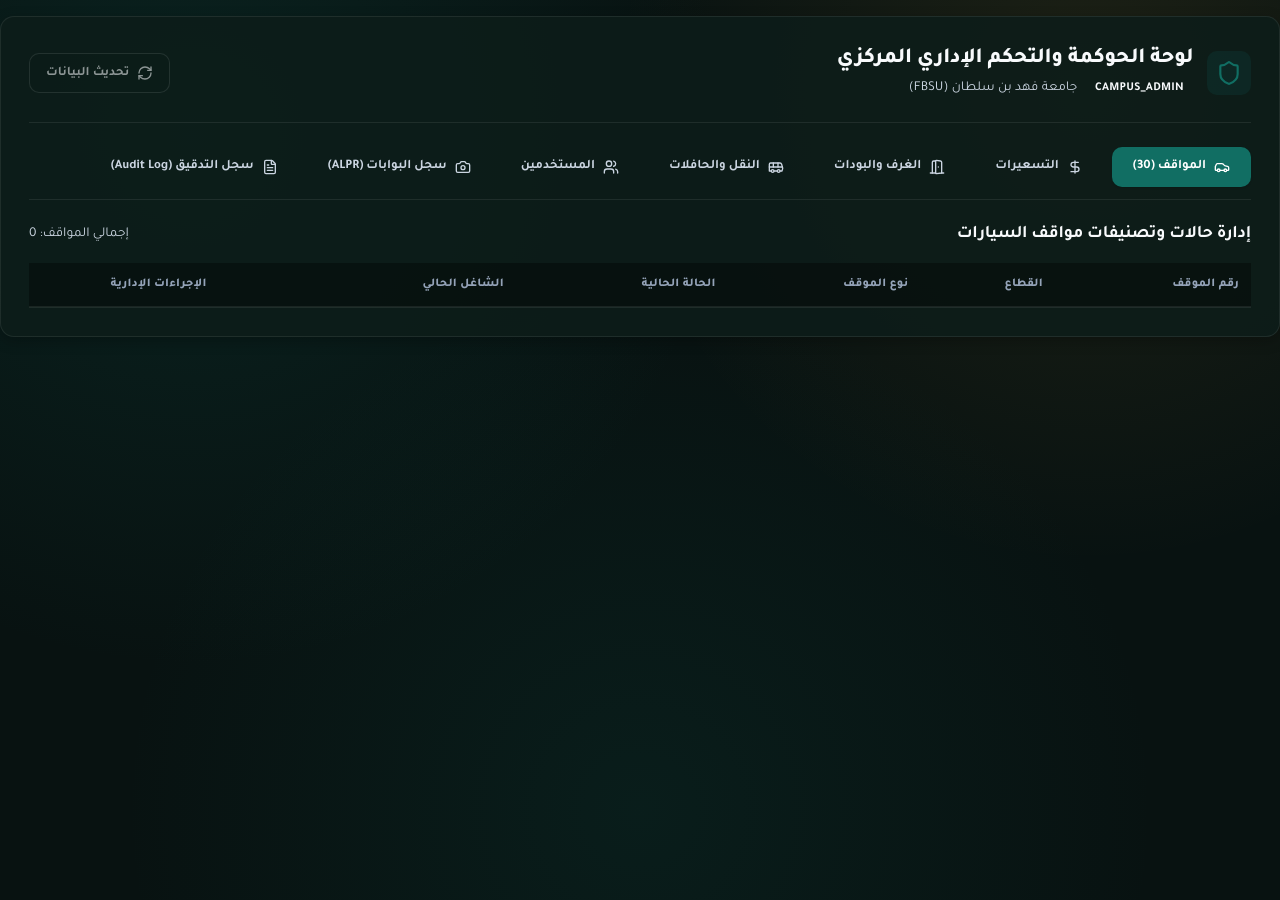
Scenario: AdminDashboard Component Tests › switches to users tab, renders user search, and toggles user suspension
Step 1. Click the button with test id "admin-tab-users" → (570,167), box [500,147,640,187]
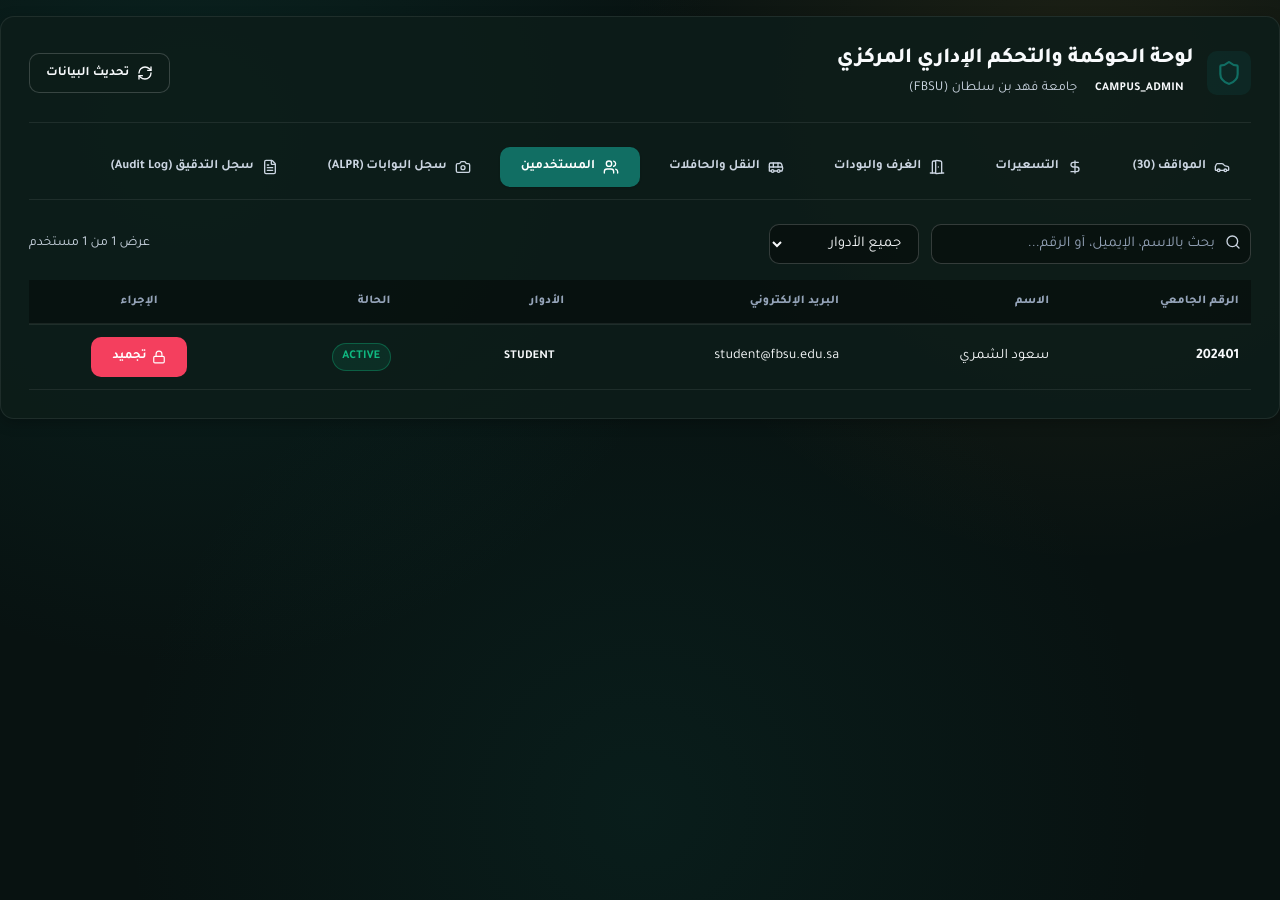
Check: the element with test id "admin-users-panel" is shown, box [29,224,1251,390]
Check: the text "سعود الشمري" is shown, box [851,324,1061,390]
Check: the text "student@fbsu.edu.sa" is shown, box [576,324,851,390]
Step 2. Click the button "تجميد" → (139,357), box [92,337,187,377]
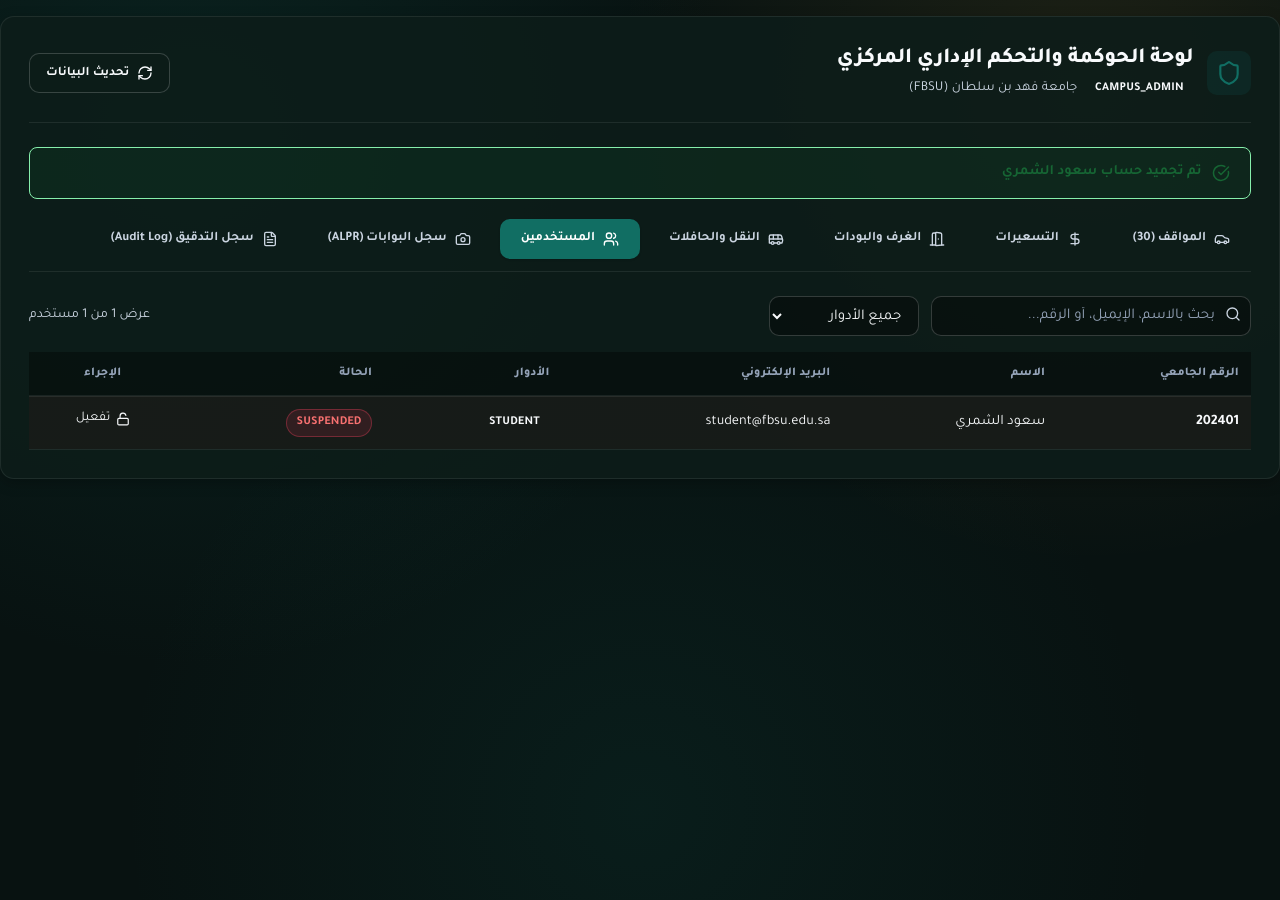
Check: the element with test id "admin-feedback-banner" is shown, box [29,147,1251,199]
